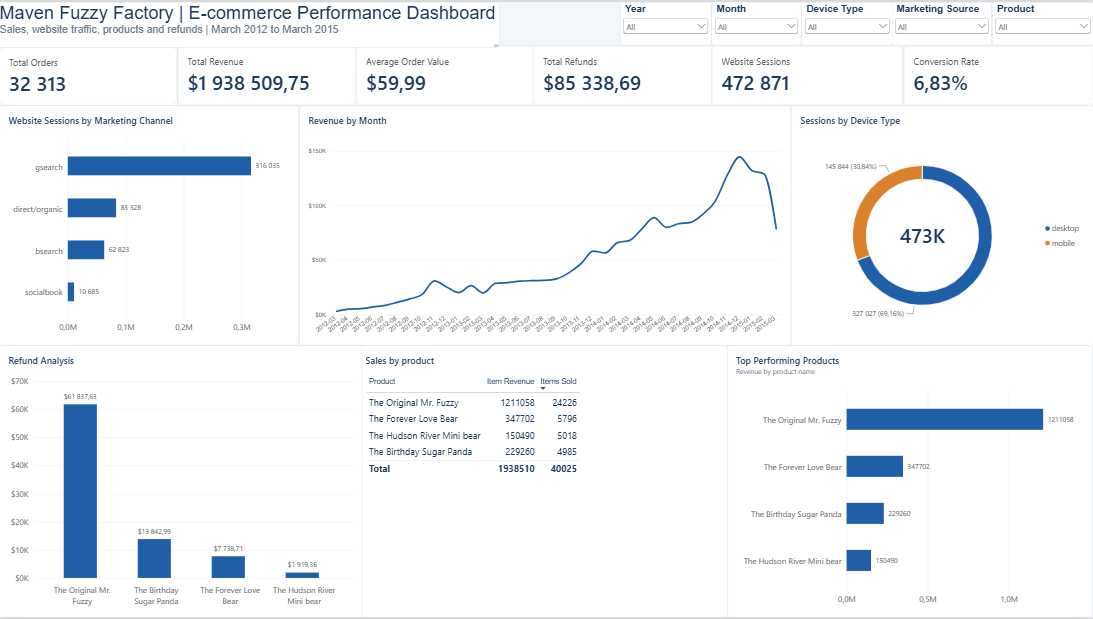

The page's visual inventory and layout, read from the dashboard file:
{"tool":"powerbi","page":{"name":"Page 1","canvas":[1920,1080],"ordinal":0},"visuals":[{"type":"cardVisual","fields":{"Data":["orders_mav.Total Orders"]},"box":[15.6,93.3,297.8,73.3],"z":0},{"type":"cardVisual","fields":{"Data":["orders_mav.Total Revenue"]},"box":[324.4,93.3,300,73.3],"z":1000},{"type":"cardVisual","fields":{"Data":["orders_mav.Total Refunds"]},"box":[960,88.9,300,77.8],"z":2000},{"type":"cardVisual","fields":{"Data":["orders_mav.Website Sessions"]},"box":[1284.4,93.3,300,73.3],"z":3000},{"type":"cardVisual","fields":{"Data":["orders_mav.Conversion Rate"]},"box":[1602.2,93.3,300,73.3],"z":4000},{"type":"cardVisual","fields":{"Data":["orders_mav.Average Order Value"]},"box":[637.8,93.3,300,73.3],"z":5000},{"type":"lineChart","title":"Revenue by Month","fields":{"Category":["Calendar.Year-Month"],"Y":["orders_mav.Total Revenue"]},"box":[544.4,182.2,833.3,382.2],"z":6000},{"type":"clusteredBarChart","title":"Website Sessions by Marketing Channel","fields":{"Category":["website_sessions.utm_source"],"Y":["orders_mav.Website Sessions"]},"box":[11.1,182.2,533.3,382.2],"z":7000},{"type":"donutChart","title":"Sessions by Device  Type","fields":{"Category":["website_sessions.device_type"],"Y":["orders_mav.Website Sessions"]},"box":[1377.8,182.2,524.4,382.2],"z":8000},{"type":"clusteredBarChart","title":"Top Performing Products","fields":{"Category":["products.product_name"],"Y":["orders_mav.Item Revenue"]},"box":[11.1,564.4,628.9,408.9],"z":9000},{"type":"tableEx","title":"Sales by product","fields":{"Values":["products.product_name","orders_mav.Item Revenue","order_items.order_item_id"]},"box":[642.2,564.4,640,408.9],"z":10000},{"type":"clusteredColumnChart","title":"Refund Analysis","fields":{"Category":["products.product_name"],"Y":["orders_mav.Total Refunds"]},"box":[1284.4,564.4,617.8,408.9],"z":11000},{"type":"slicer","fields":{"Values":["Calendar.Year"]},"box":[1088.9,13.3,160,68.9],"z":12000},{"type":"slicer","fields":{"Values":["Calendar.Month"]},"box":[1248.9,13.3,160,62.2],"z":13000},{"type":"slicer","fields":{"Values":["website_sessions.utm_source"]},"box":[1582.2,13.3,160,68.9],"z":14000},{"type":"slicer","fields":{"Values":["website_sessions.device_type"]},"box":[1422.2,13.3,160,62.2],"z":15000},{"type":"slicer","fields":{"Values":["products.product_name"]},"box":[1742.2,15.6,160,64.4],"z":16000},{"type":"textbox","title":"Maven Fuzzy Factory | E-commerce Performance Dashboard","box":[15.6,0,877.8,151.1],"z":17000}]}

Visuals, with their boxes in screenshot pixels (x1, y1, x2, y2), scaled from the page's 1920x1080 canvas onto the 1093x619 screenshot:
cardVisual - orders_mav.Total Orders: [left=9, top=53, right=178, bottom=95]
cardVisual - orders_mav.Total Revenue: [left=185, top=53, right=355, bottom=95]
cardVisual - orders_mav.Total Refunds: [left=546, top=51, right=717, bottom=96]
cardVisual - orders_mav.Website Sessions: [left=731, top=53, right=902, bottom=95]
cardVisual - orders_mav.Conversion Rate: [left=912, top=53, right=1083, bottom=95]
cardVisual - orders_mav.Average Order Value: [left=363, top=53, right=534, bottom=95]
"Revenue by Month" lineChart: [left=310, top=104, right=784, bottom=323]
"Website Sessions by Marketing Channel" clusteredBarChart: [left=6, top=104, right=310, bottom=323]
"Sessions by Device  Type" donutChart: [left=784, top=104, right=1083, bottom=323]
"Top Performing Products" clusteredBarChart: [left=6, top=323, right=364, bottom=558]
"Sales by product" tableEx: [left=366, top=323, right=730, bottom=558]
"Refund Analysis" clusteredColumnChart: [left=731, top=323, right=1083, bottom=558]
slicer - Calendar.Year: [left=620, top=8, right=711, bottom=47]
slicer - Calendar.Month: [left=711, top=8, right=802, bottom=43]
slicer - website_sessions.utm_source: [left=901, top=8, right=992, bottom=47]
slicer - website_sessions.device_type: [left=810, top=8, right=901, bottom=43]
slicer - products.product_name: [left=992, top=9, right=1083, bottom=46]
"Maven Fuzzy Factory | E-commerce Performance Dashboard" textbox: [left=9, top=0, right=509, bottom=87]
